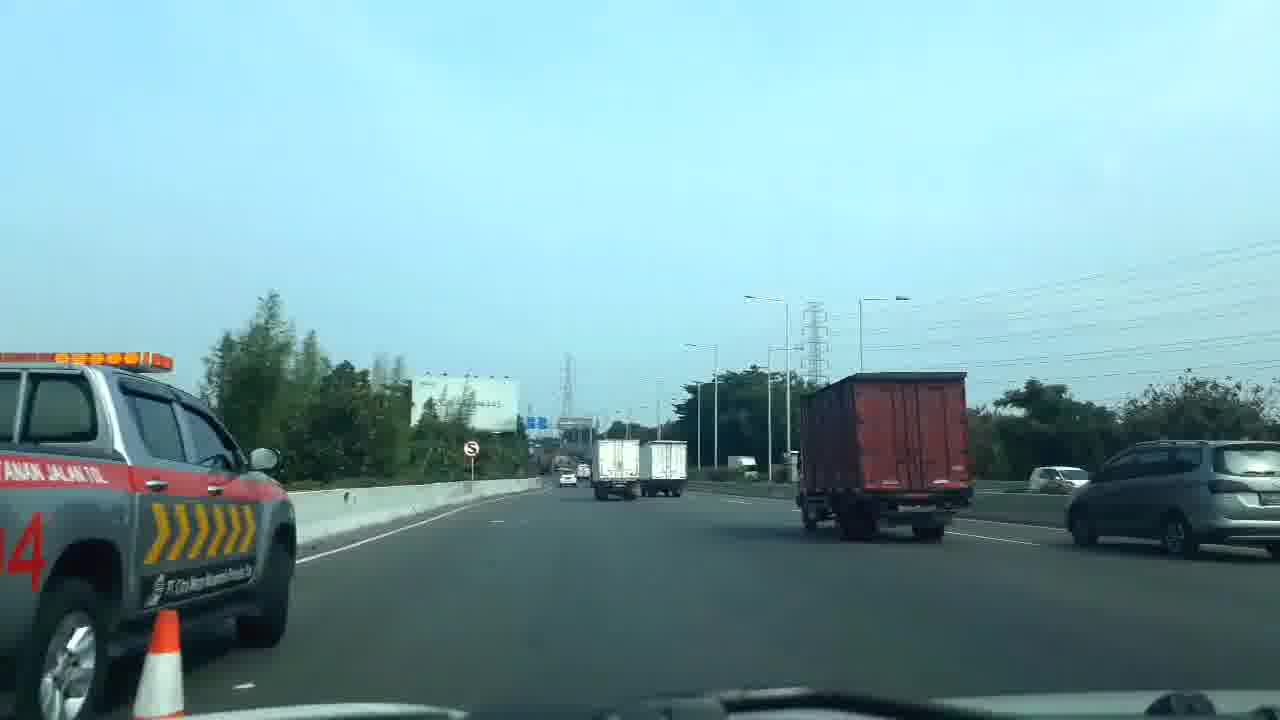plate_positive: (897, 502, 937, 512)
